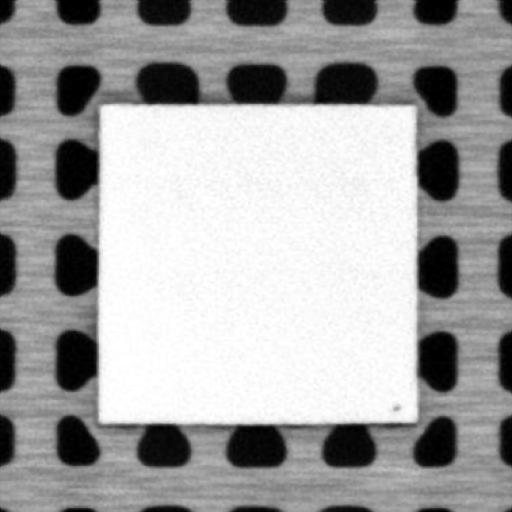DIE_INK: (386, 399, 401, 412)
